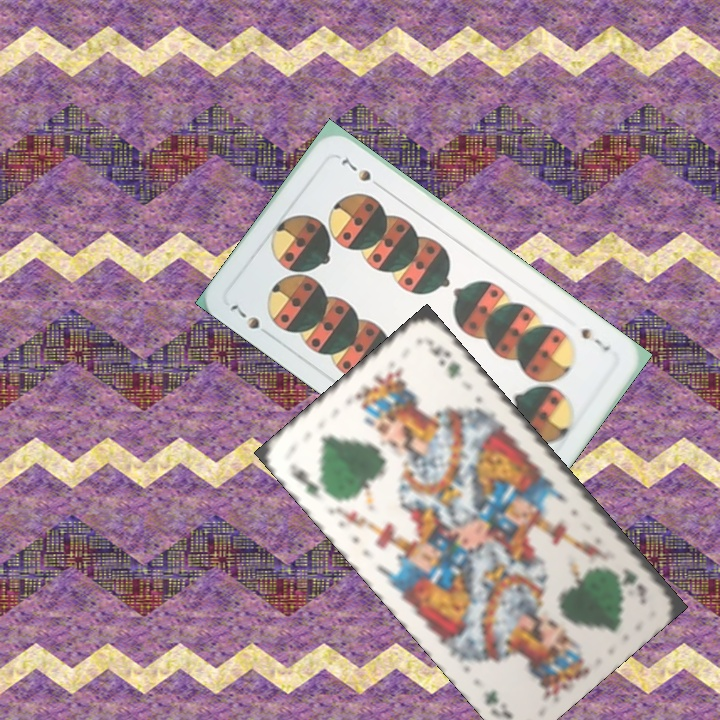GK: (285, 461, 325, 503), (619, 564, 646, 599)
S7: (225, 300, 263, 332), (577, 324, 613, 354)
